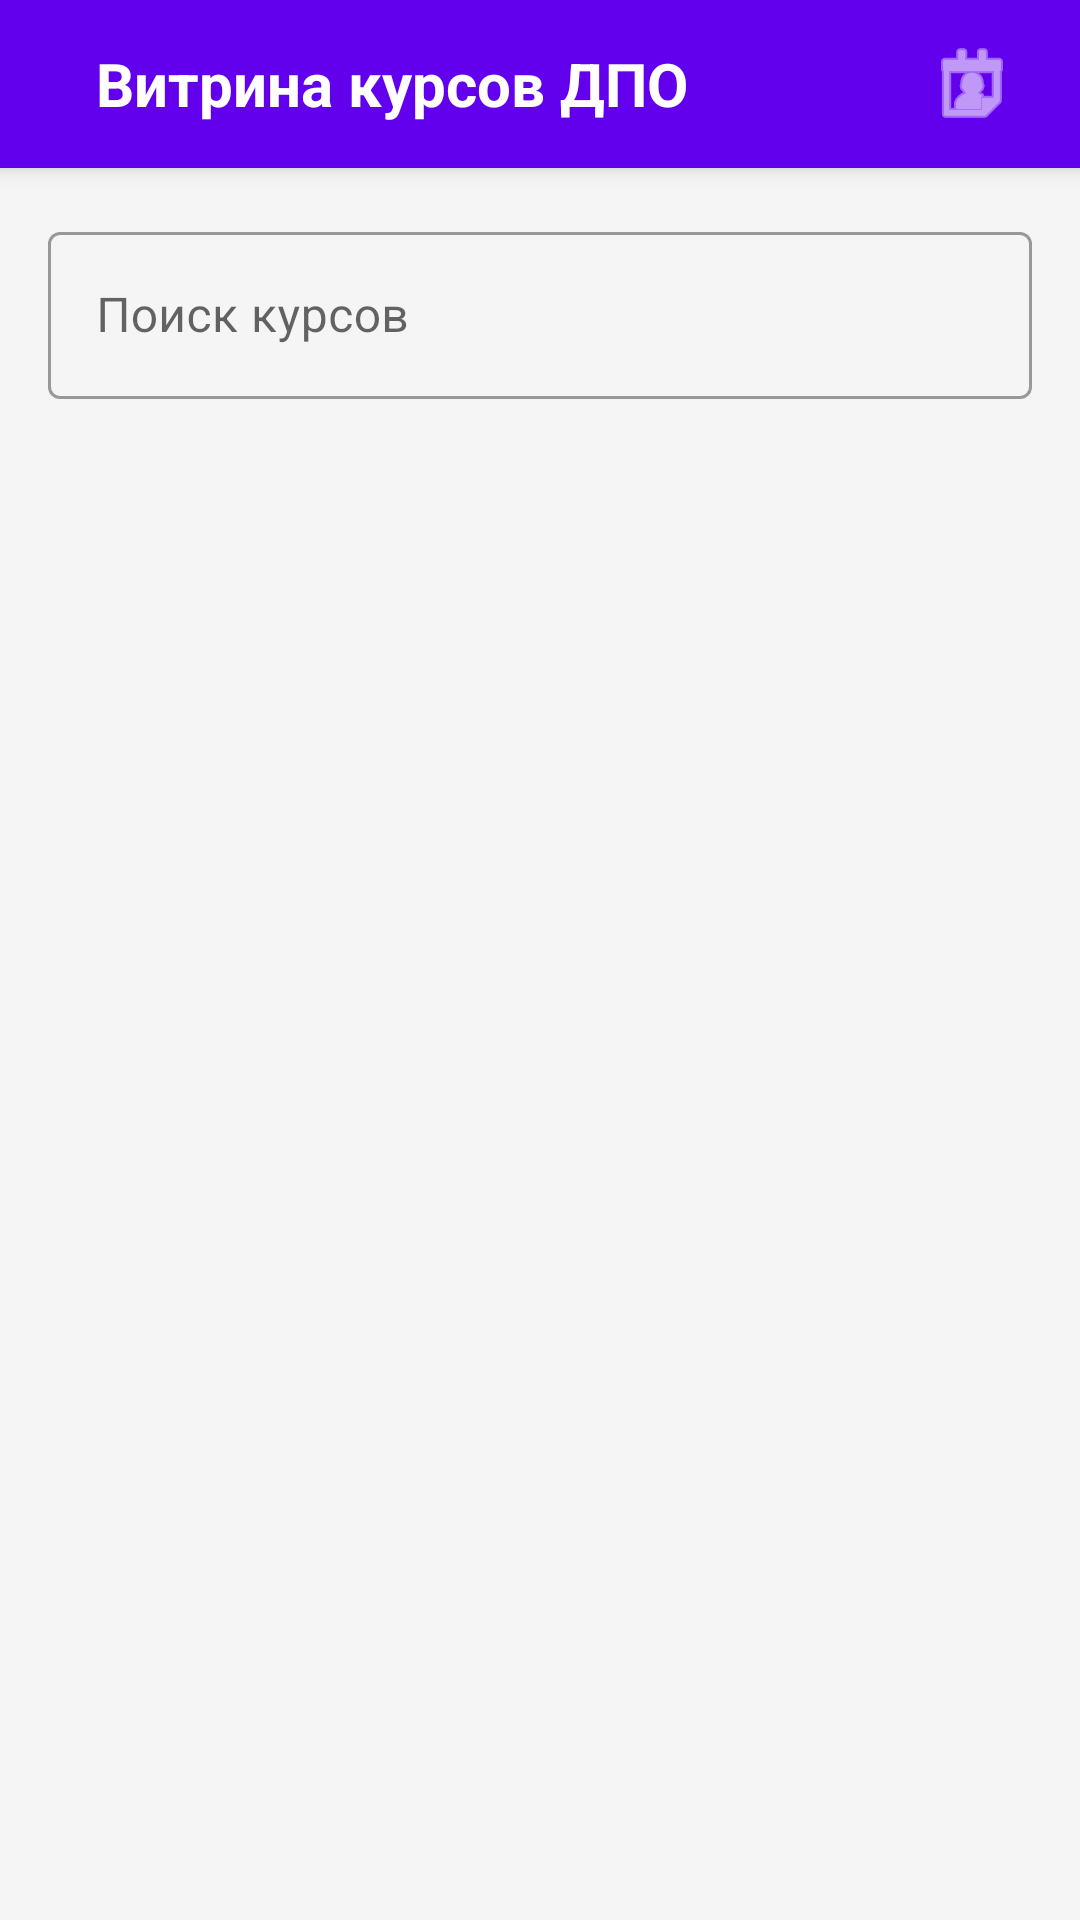

Locate icon controls on the screen. Image size 1080px x 1920px, boxes as (x1, y1, x2, y2).
Профиль: (941, 48, 1003, 118)
